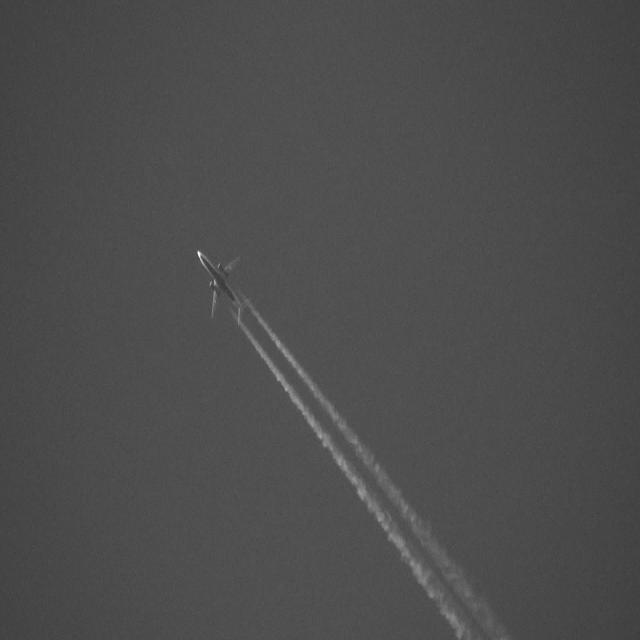aeroplane: (197, 245, 253, 333)
